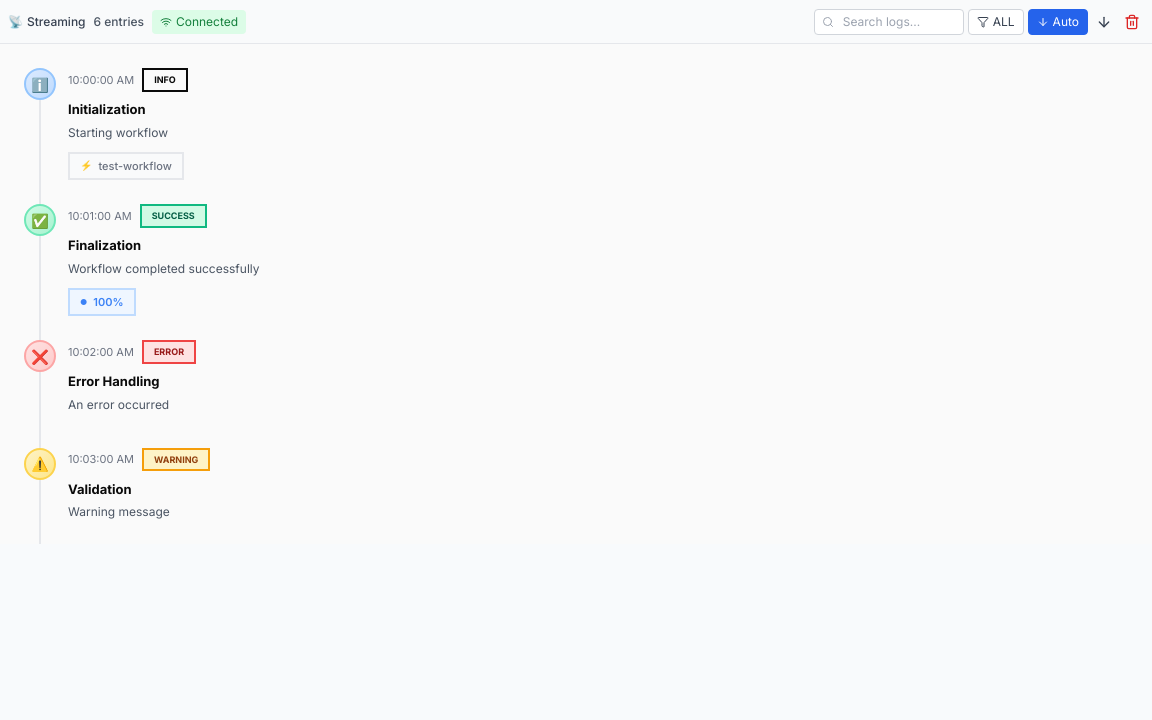
it: LiveLogsPanel Component › Search › should search logs by current step
This screenshot has width=1152, height=720.
In the field with placeholder "Search logs...": (889, 22) [814,9,964,35], type "initialization"
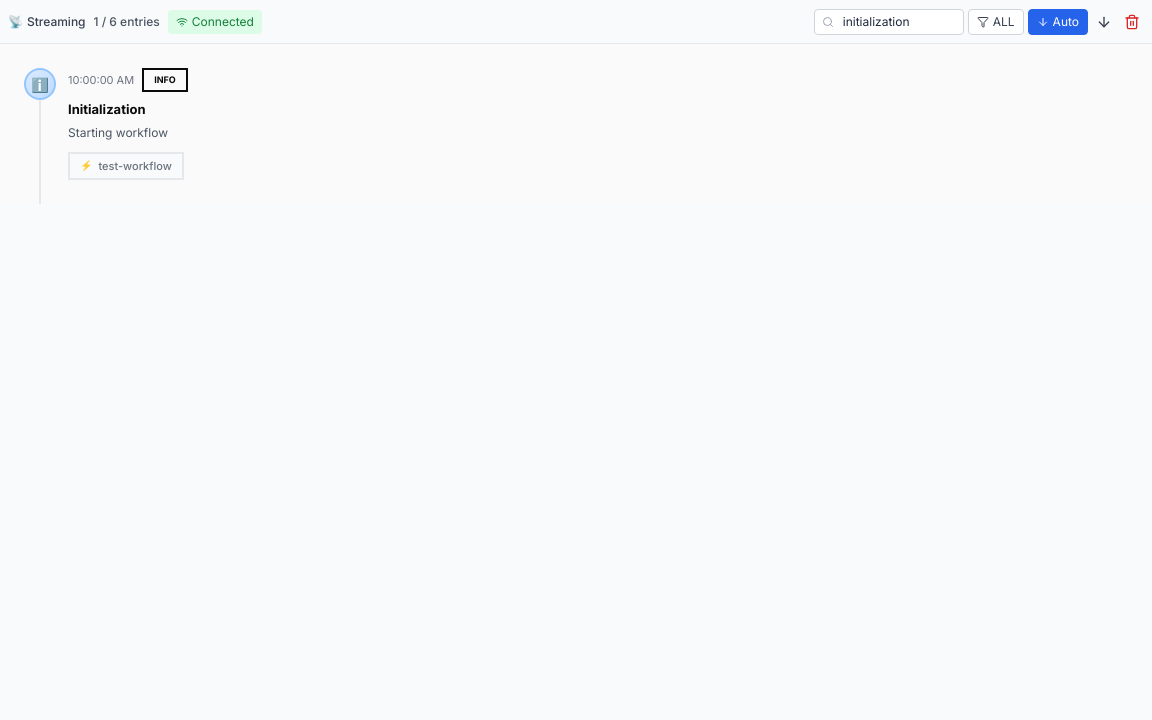
Check: the text "Starting workflow" is shown, box [68,124,168,140]
Check: the text "An error occurred" is gone
